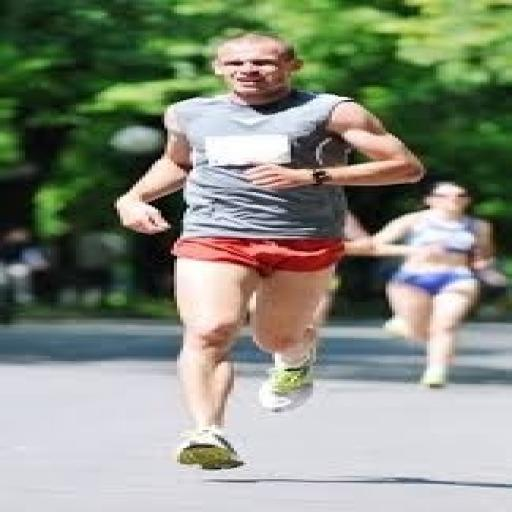running: (110, 30, 430, 471), (366, 179, 506, 390)
